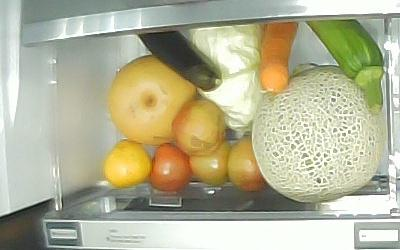cabbage: (190, 26, 261, 129)
carrot: (257, 22, 297, 94)
eggplant: (134, 30, 221, 92)
melon: (251, 64, 383, 202)
pear: (110, 54, 199, 148)
prune: (172, 100, 224, 155), (228, 137, 268, 194), (188, 135, 230, 187)
tangerine: (102, 139, 151, 189)
tomato: (149, 142, 195, 192)
zucchini: (305, 18, 385, 116)
